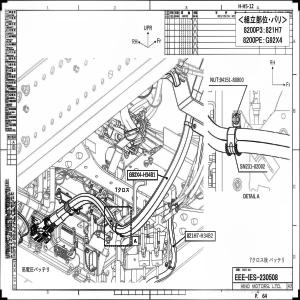PartNumber: (239, 162, 267, 170), (186, 232, 214, 239), (129, 172, 155, 178), (220, 77, 244, 83)
